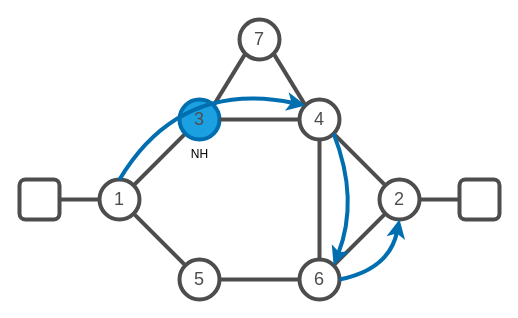
Image size: 518x318. Some labels were removed from this diagram. Each missing label, with the centre of its shape:
"lx1" goes at point (39, 199).
"lx2" goes at point (479, 199).
